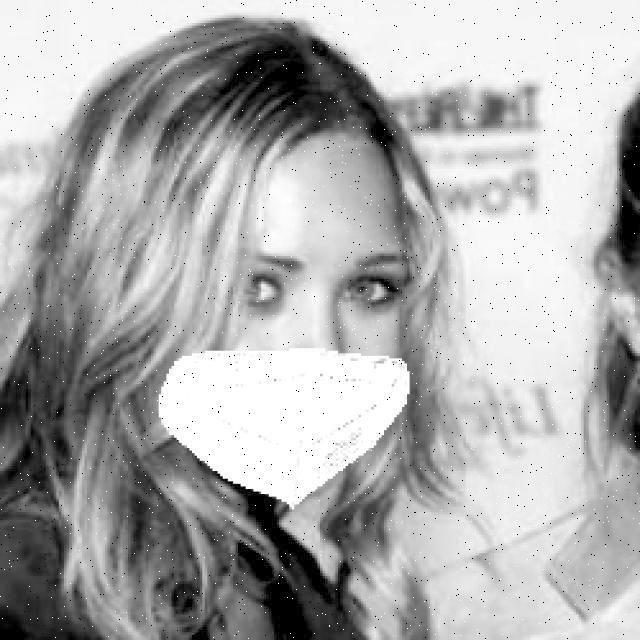mask: (140, 348, 402, 507)
no_gloves: (68, 21, 400, 252)
